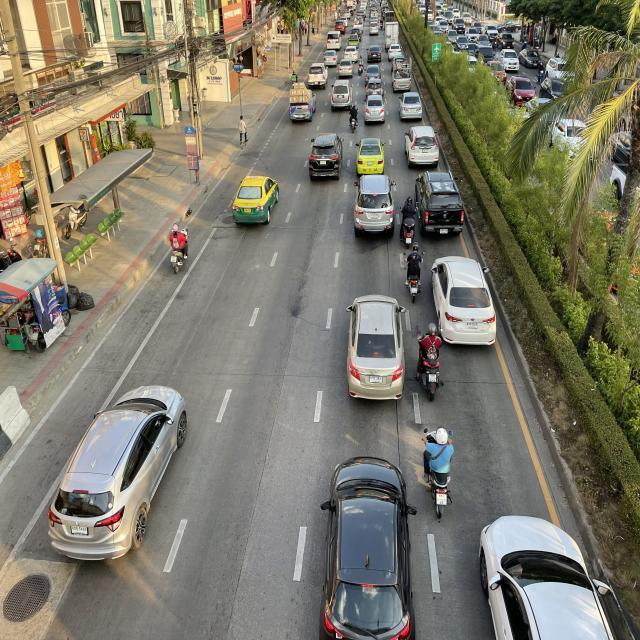bike: (421, 425, 455, 521), (414, 321, 445, 405), (403, 240, 426, 304), (168, 220, 190, 275), (399, 194, 419, 248), (348, 103, 358, 134), (357, 54, 365, 76), (291, 68, 298, 89)
car: (46, 377, 191, 567), (317, 450, 419, 640), (475, 506, 615, 640), (343, 291, 408, 407), (430, 254, 499, 350), (414, 169, 464, 236), (353, 172, 397, 236), (232, 174, 280, 226), (308, 132, 344, 182), (404, 124, 439, 168), (355, 136, 387, 176), (330, 79, 354, 113), (398, 92, 423, 122), (363, 94, 386, 124), (365, 78, 386, 98), (364, 64, 383, 86), (322, 49, 339, 68), (338, 59, 354, 79)
truck: (289, 82, 317, 124), (392, 57, 412, 93), (307, 62, 329, 90)
